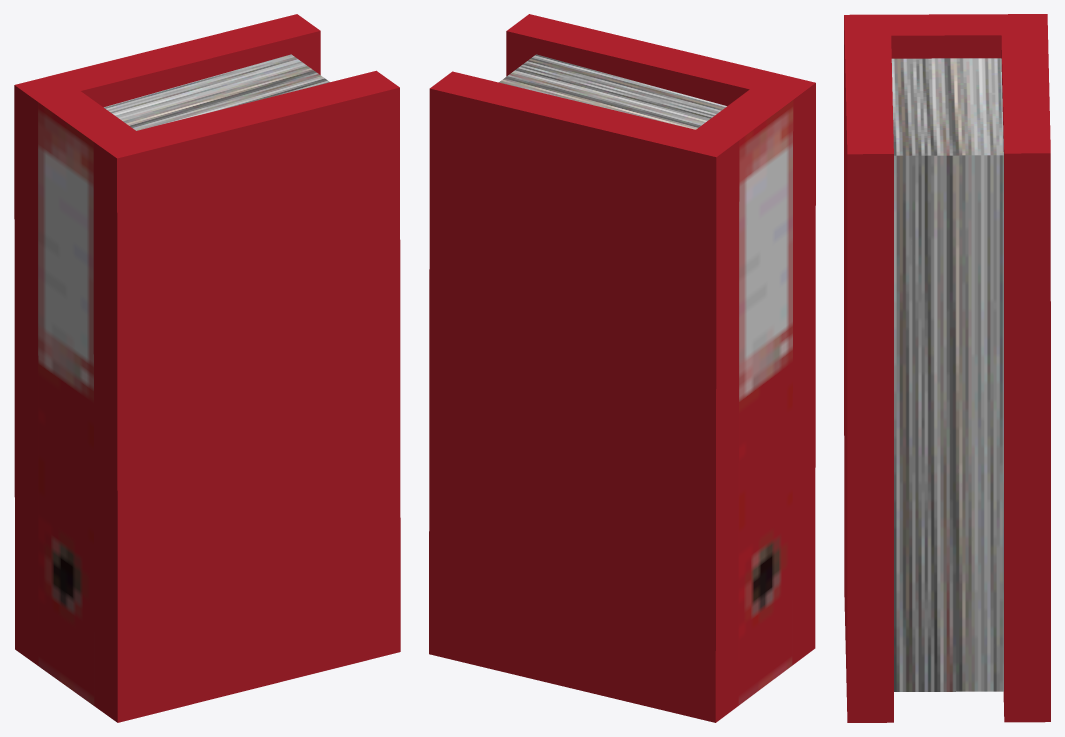
File: object_30_lev1.glb
The picture shows the model from 3 angles, left to right: view 1: azimuth 30°, elevation 25°; view 2: azimuth 150°, elevation 25°; view 3: azimuth 270°, elevation 25°; orthographic projection.
Parts seen in each view (by area): view 1: object_30_lev1; view 2: object_30_lev1; view 3: object_30_lev1.
Boxes of the visible parts, box(x1,y1,x2,y2) form: object_30_lev1: box(14, 14, 400, 722); object_30_lev1: box(429, 14, 815, 722); object_30_lev1: box(844, 14, 1050, 722).
Bounding box in the file's own units: 0.2255 × 0.4243 × 0.1398.
1 material, 1 textured.
